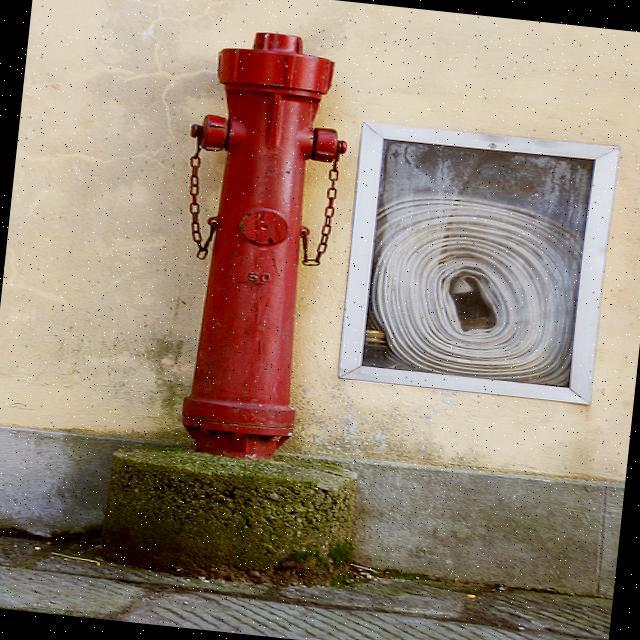fire_hydrant: (162, 28, 354, 464)
